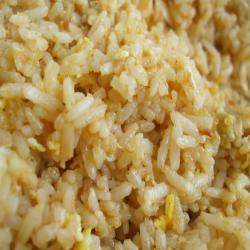rice: (10, 13, 221, 230)
